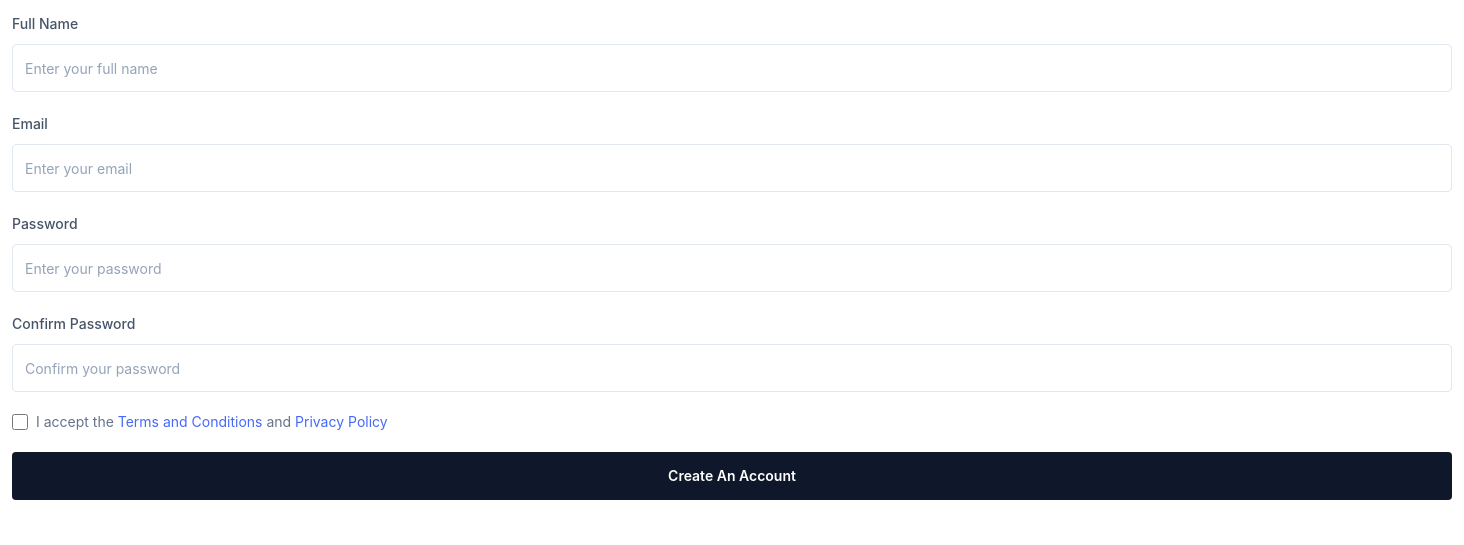
Test: RegForm › shows validation error for weak password
In the password field labelled "Password": (732, 268) [12, 244, 1452, 292], type "weak"
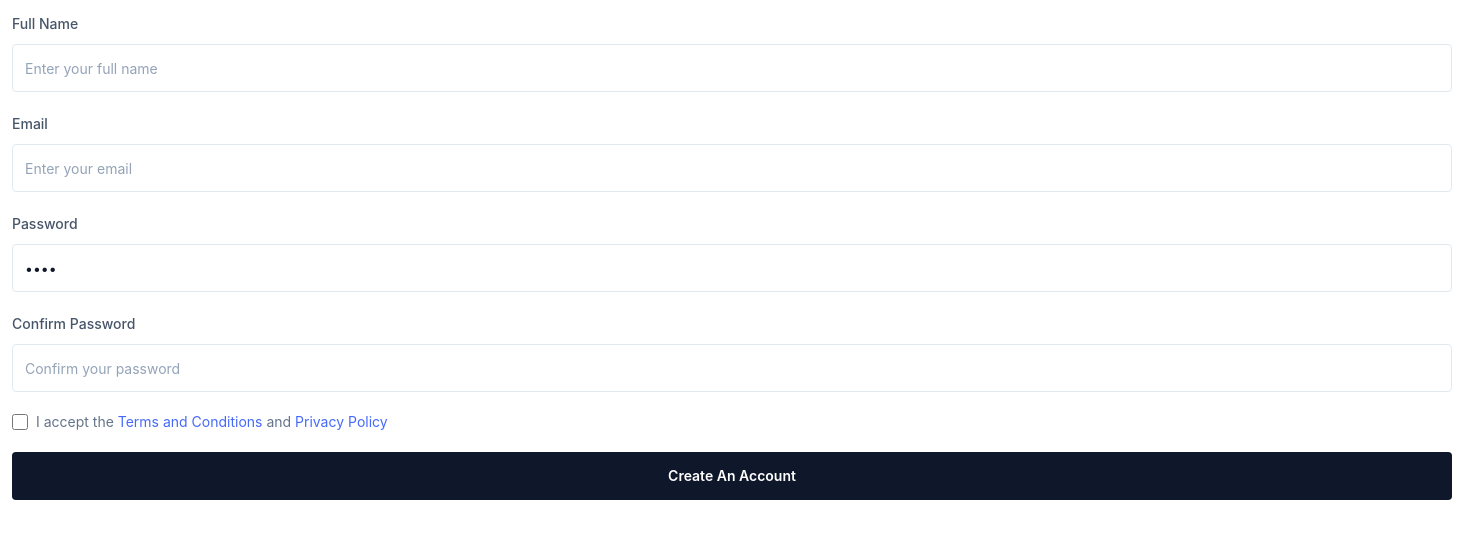
Leave the password field labelled "Password", box [12, 244, 1452, 292]
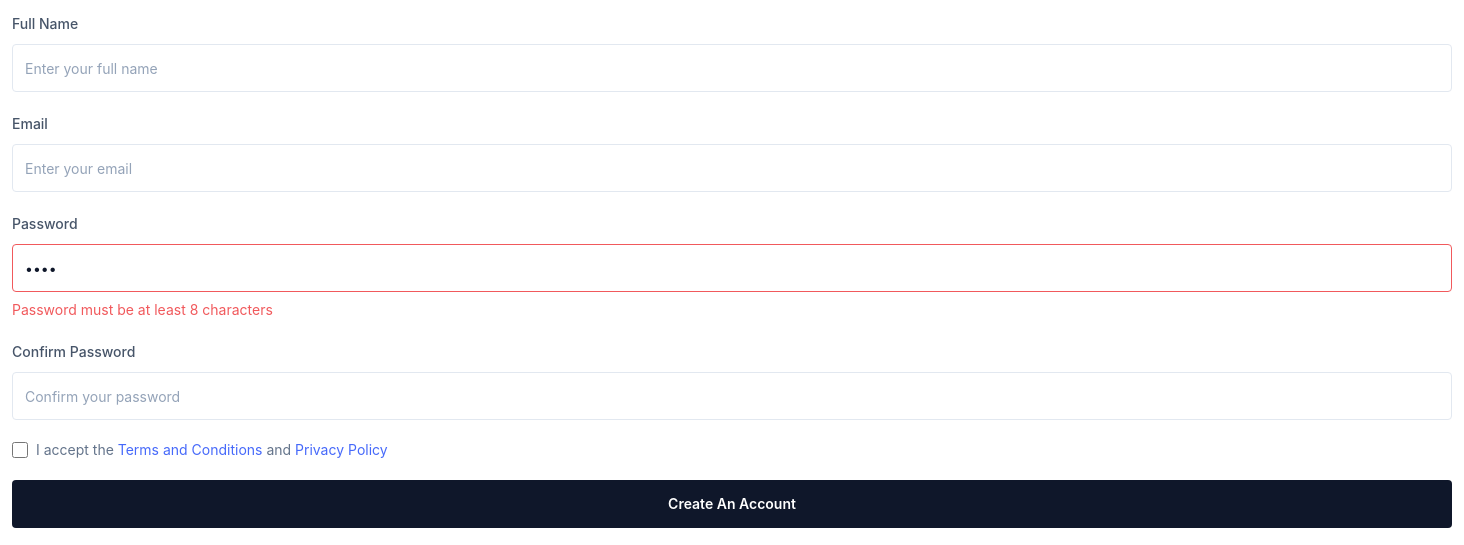
Check: the text "Password must be at least 8 characters" is shown, box [12, 301, 273, 318]
